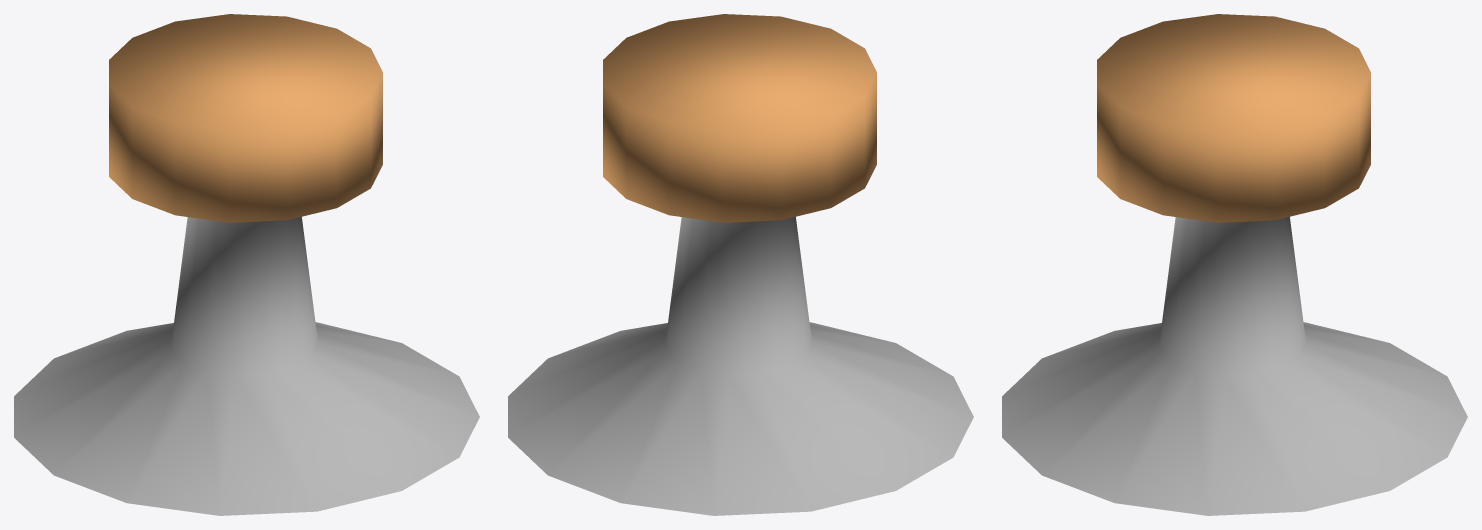
Rendered from Silla consola.fbx.
3 renders of one model, left to right at view 1: azimuth 30°, elevation 25°; view 2: azimuth 150°, elevation 25°; view 3: azimuth 270°, elevation 25°, orthographic.
Parts seen in each view (by area): view 1: Cylinder; view 2: Cylinder; view 3: Cylinder.
Part boxes in pixels (x1,y1,x2,y2): Cylinder: [14, 14, 479, 515]; Cylinder: [508, 14, 973, 515]; Cylinder: [1002, 14, 1467, 515].
Bounding box in the file's own units: 54.05 × 43.89 × 53.75.
